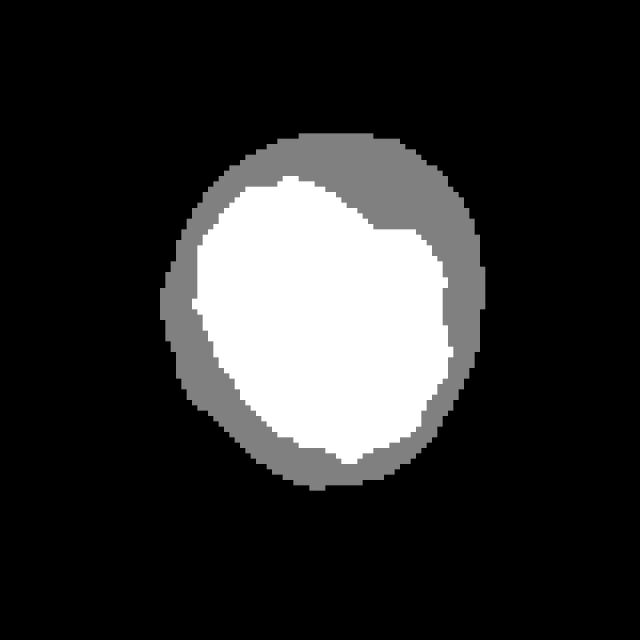WBC: (144, 112, 507, 491)
